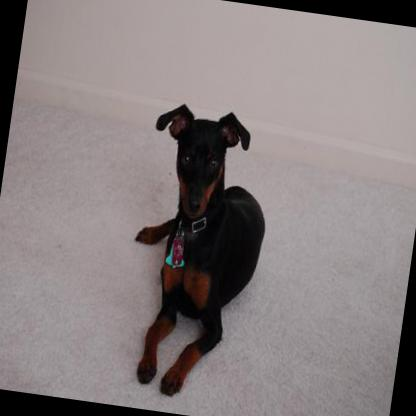miniature_pinscher: (113, 96, 281, 406)
